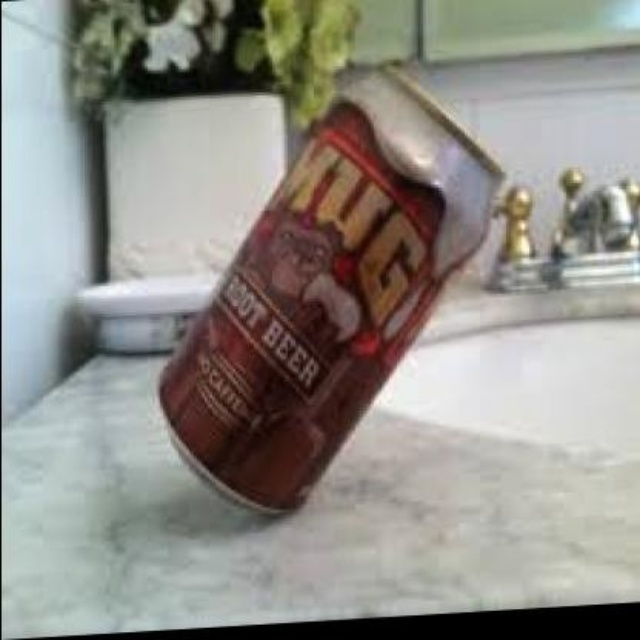trash: (160, 66, 500, 511)
